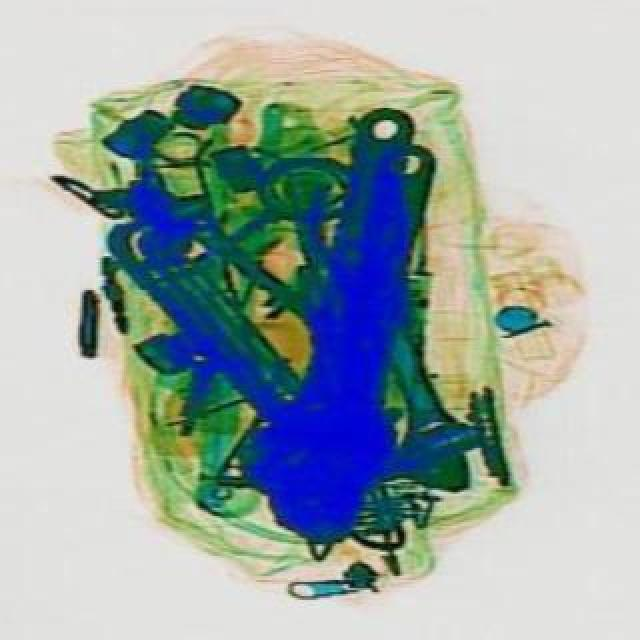scissors: (340, 328, 488, 512)
